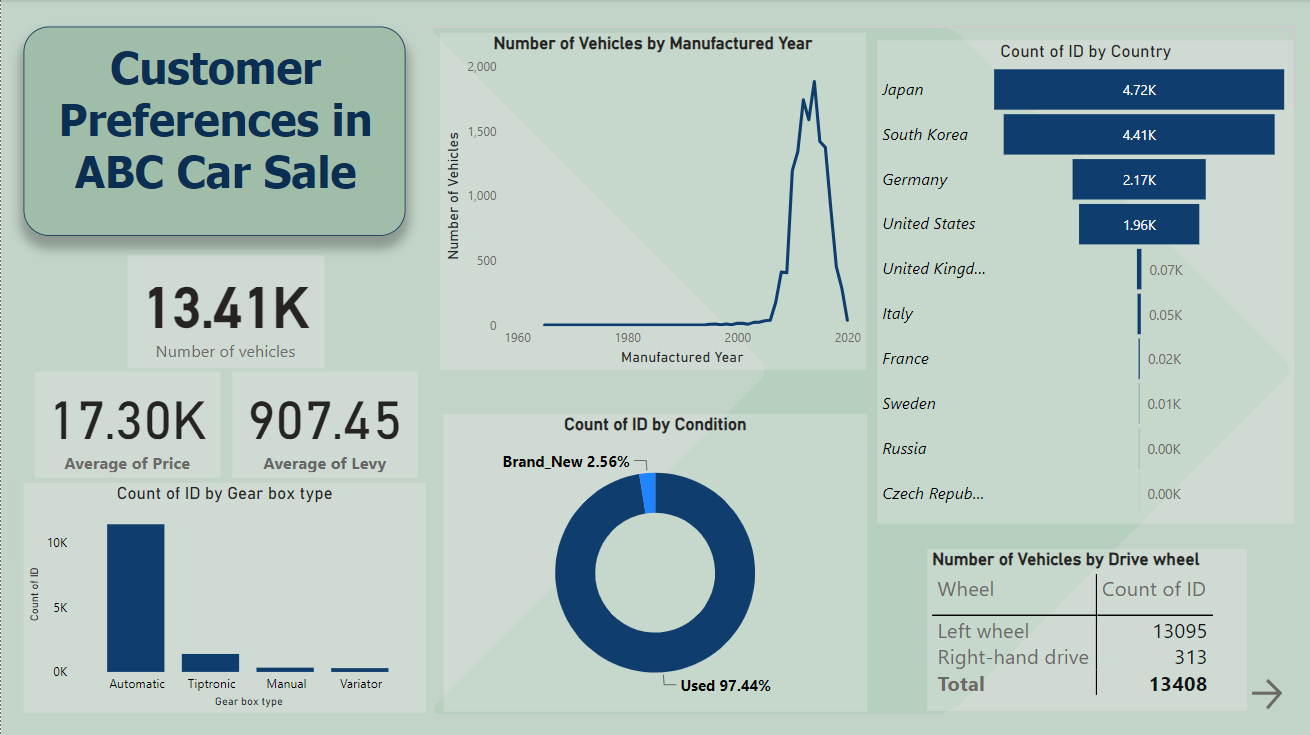

What the dashboard file says about the page in this screenshot:
{"tool":"powerbi","page":{"name":"Overview","canvas":[1280,720],"ordinal":0},"visuals":[{"type":"card","fields":{"Values":["CountNonNull(new_carprices.ID)"]},"box":[112.7,247.2,192.5,112.7],"z":0},{"type":"textbox","box":[21.9,26.6,374,205],"z":1000},{"type":"card","fields":{"Values":["Avg(new_carprices.Price)"]},"box":[209.7,342.7,181.5,103.3],"z":2000},{"type":"card","fields":{"Values":["Avg(new_carprices.Levy)"]},"box":[21.9,342.7,181.5,103.3],"z":3000},{"type":"shape","box":[416.2,25.9,849.6,673.9],"z":4000},{"type":"funnel","fields":{"Y":["CountNonNull(new_carprices.ID)"],"Category":["new_carprices.Country"]},"box":[843.4,40.7,422.5,472.6],"z":5000},{"type":"lineChart","fields":{"Category":["new_carprices.Prod. year"],"Y":["CountNonNull(new_carprices.ID)"]},"box":[404.6,40.3,416.8,330.1],"z":6000},{"type":"pivotTable","title":"Number of Vehicles by Drive wheel","fields":{"Rows":["new_carprices.Wheel"],"Values":["CountNonNull(new_carprices.ID)"]},"box":[901.3,539.9,306.7,158],"z":7000},{"type":"donutChart","fields":{"Y":["CountNonNull(new_carprices.ID)"],"Category":["new_carprices.Condition"]},"box":[429.1,408.3,414.4,290.9],"z":8000},{"type":"columnChart","fields":{"Category":["new_carprices.Gear box type"],"Y":["CountNonNull(new_carprices.ID)"]},"box":[21.9,474.1,406.8,223.8],"z":9000},{"type":"shape","box":[40.3,420.5,404.6,299.5],"z":10000},{"type":"shape","box":[416.2,0,849.7,54.8],"z":12000},{"type":"actionButton","box":[1217.3,660.5,48.1,39.5],"z":13000},{"type":"shape","box":[0,469.4,21.6,83.5],"z":14000},{"type":"shape","box":[1254.2,25.9,21.6,83.5],"z":15000},{"type":"actionButton","box":[0,0,100,40],"z":15001},{"type":"actionButton","box":[1165,453.8,100,40],"z":15002}]}

Visuals, with their boxes in screenshot pixels (x1, y1, x2, y2), scaled from the page's 1280x720 canvas onto the 1310x735 screenshot:
card - CountNonNull(new_carprices.ID): <bbox>115, 252, 312, 367</bbox>
textbox: <bbox>22, 27, 405, 236</bbox>
card - Avg(new_carprices.Price): <bbox>215, 350, 400, 455</bbox>
card - Avg(new_carprices.Levy): <bbox>22, 350, 208, 455</bbox>
shape: <bbox>426, 26, 1295, 714</bbox>
funnel - CountNonNull(new_carprices.ID) x new_carprices.Country: <bbox>863, 42, 1296, 524</bbox>
lineChart - new_carprices.Prod. year x CountNonNull(new_carprices.ID): <bbox>414, 41, 841, 378</bbox>
"Number of Vehicles by Drive wheel" pivotTable: <bbox>922, 551, 1236, 712</bbox>
donutChart - CountNonNull(new_carprices.ID) x new_carprices.Condition: <bbox>439, 417, 863, 714</bbox>
columnChart - new_carprices.Gear box type x CountNonNull(new_carprices.ID): <bbox>22, 484, 439, 712</bbox>
shape: <bbox>41, 429, 455, 734</bbox>
shape: <bbox>426, 0, 1296, 56</bbox>
actionButton: <bbox>1246, 674, 1295, 715</bbox>
shape: <bbox>0, 479, 22, 564</bbox>
shape: <bbox>1284, 26, 1306, 112</bbox>
actionButton: <bbox>0, 0, 102, 41</bbox>
actionButton: <bbox>1192, 463, 1295, 504</bbox>
